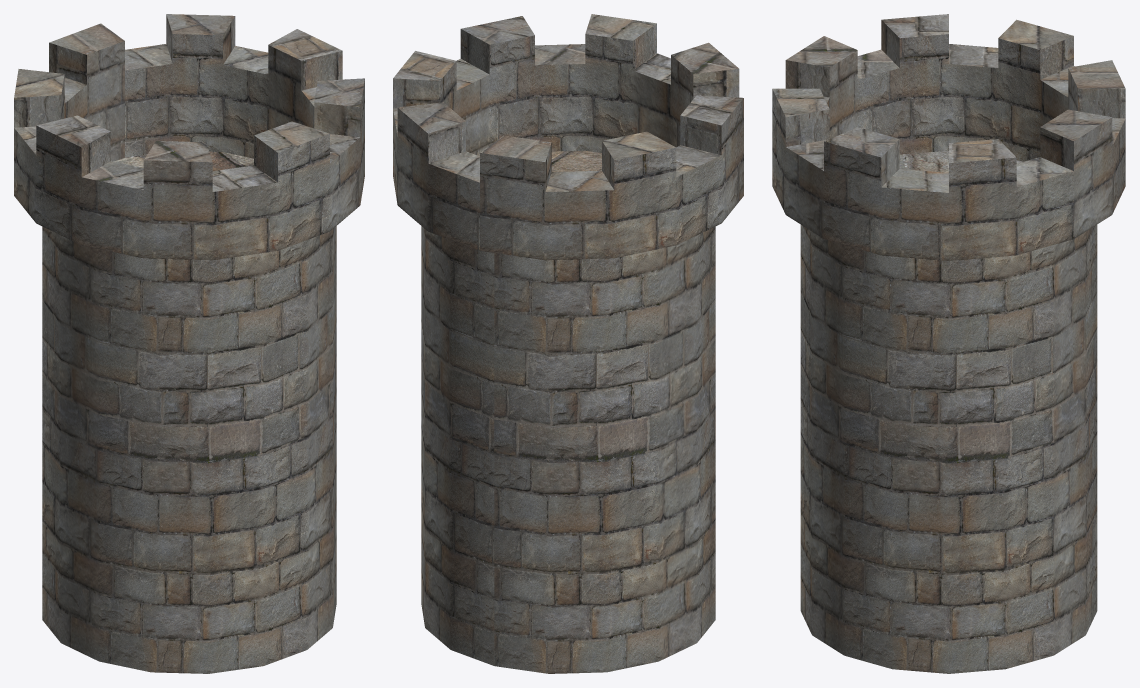
Rendered from Pilar_de_castillo.obj.
The picture shows the model from 3 angles, left to right: view 1: azimuth 30°, elevation 25°; view 2: azimuth 150°, elevation 25°; view 3: azimuth 270°, elevation 25°; orthographic projection.
Parts seen in each view (by area): view 1: pCylinder1_Untitled; view 2: pCylinder1_Untitled; view 3: pCylinder1_Untitled.
Part boxes in pixels (x1,y1,x2,y2): pCylinder1_Untitled: [14, 14, 364, 673]; pCylinder1_Untitled: [393, 14, 743, 673]; pCylinder1_Untitled: [772, 14, 1125, 673].
Size of the model in its own units: 0.6379 by 1.04 by 0.6379.
Materials: 1 (1 with a texture image).
